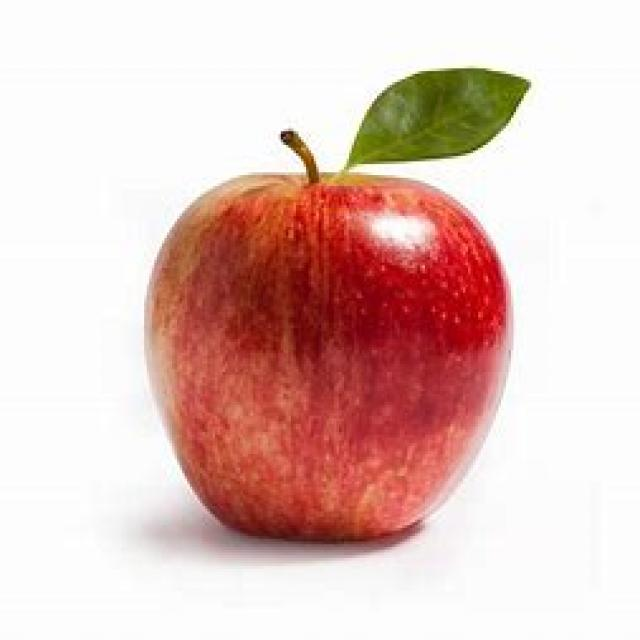Apple: (137, 57, 534, 551)
